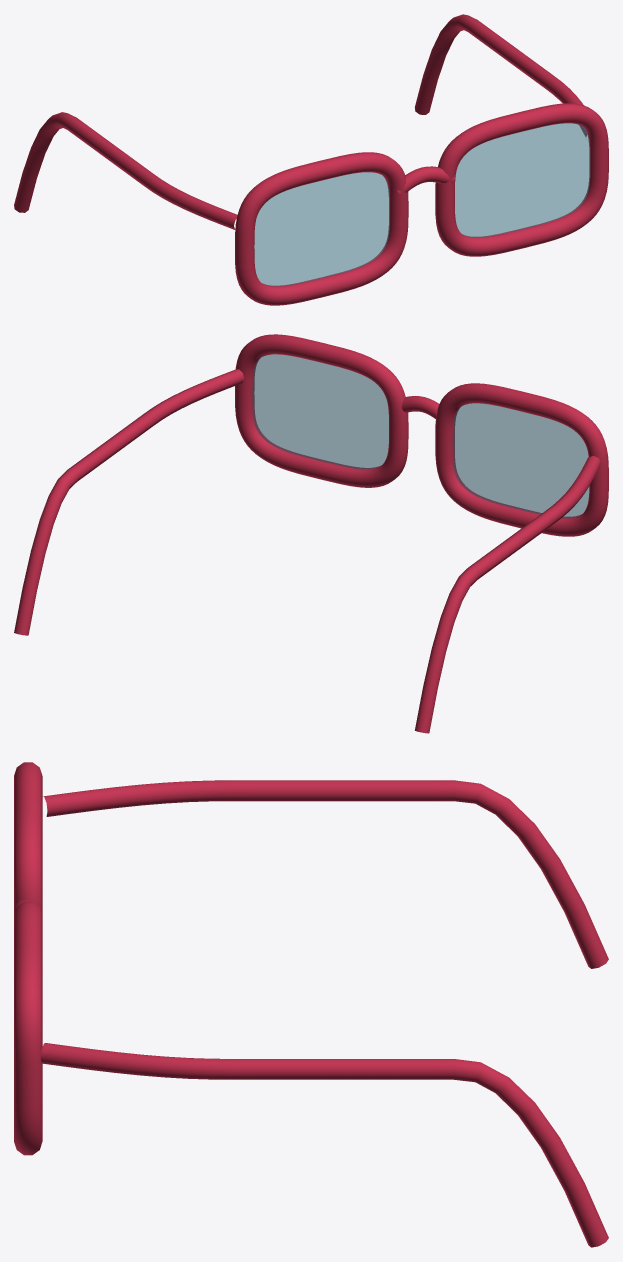
File: glasses.glb
3 renders of one model, top to bottom at view 1: azimuth 30°, elevation 25°; view 2: azimuth 150°, elevation 25°; view 3: azimuth 270°, elevation 25°, orthographic. The views are drawn at different scales.
Visible parts, largest first — view 1: glasses; view 2: glasses; view 3: glasses.
Part boxes in pixels (box(x1,y1,x2,y2)): glasses: box(14, 14, 608, 305); glasses: box(14, 334, 608, 733); glasses: box(14, 762, 608, 1247).
Bounding box in the file's own units: 2.15 × 0.8458 × 1.88.
